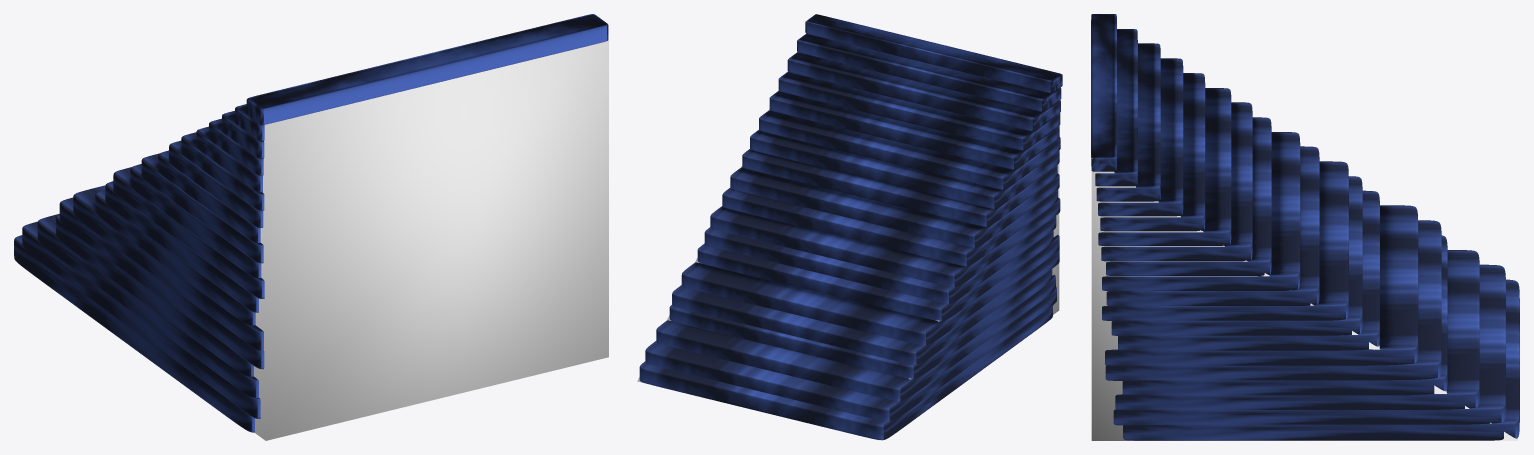
File: StairsBlue3.fbx
3 renders of one model, left to right at view 1: azimuth 30°, elevation 25°; view 2: azimuth 150°, elevation 25°; view 3: azimuth 270°, elevation 25°, orthographic. The views are drawn at different scales.
Parts seen in each view (by area): view 1: Stairs.002, Stairs.003; view 2: Stairs.003, Stairs.002; view 3: Stairs.003, Stairs.002.
Boxes of the visible parts, x1=… form: Stairs.002: x1=254, y1=24, x2=608, y2=440; Stairs.003: x1=14, y1=14, x2=608, y2=432; Stairs.003: x1=639, y1=14, x2=1062, y2=440; Stairs.002: x1=637, y1=33, x2=1059, y2=440; Stairs.003: x1=1091, y1=14, x2=1519, y2=440; Stairs.002: x1=1091, y1=158, x2=1517, y2=440.
Bounding box in the file's own units: 511 × 468 × 641.
1 material, 1 textured.
